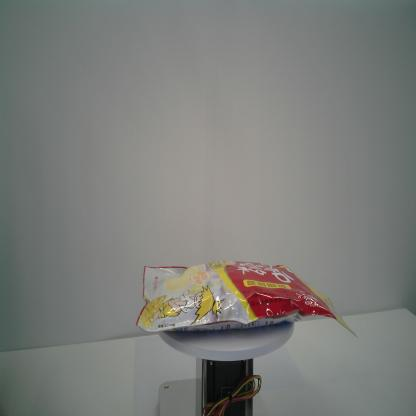Instant Drink: (134, 260, 356, 339)
